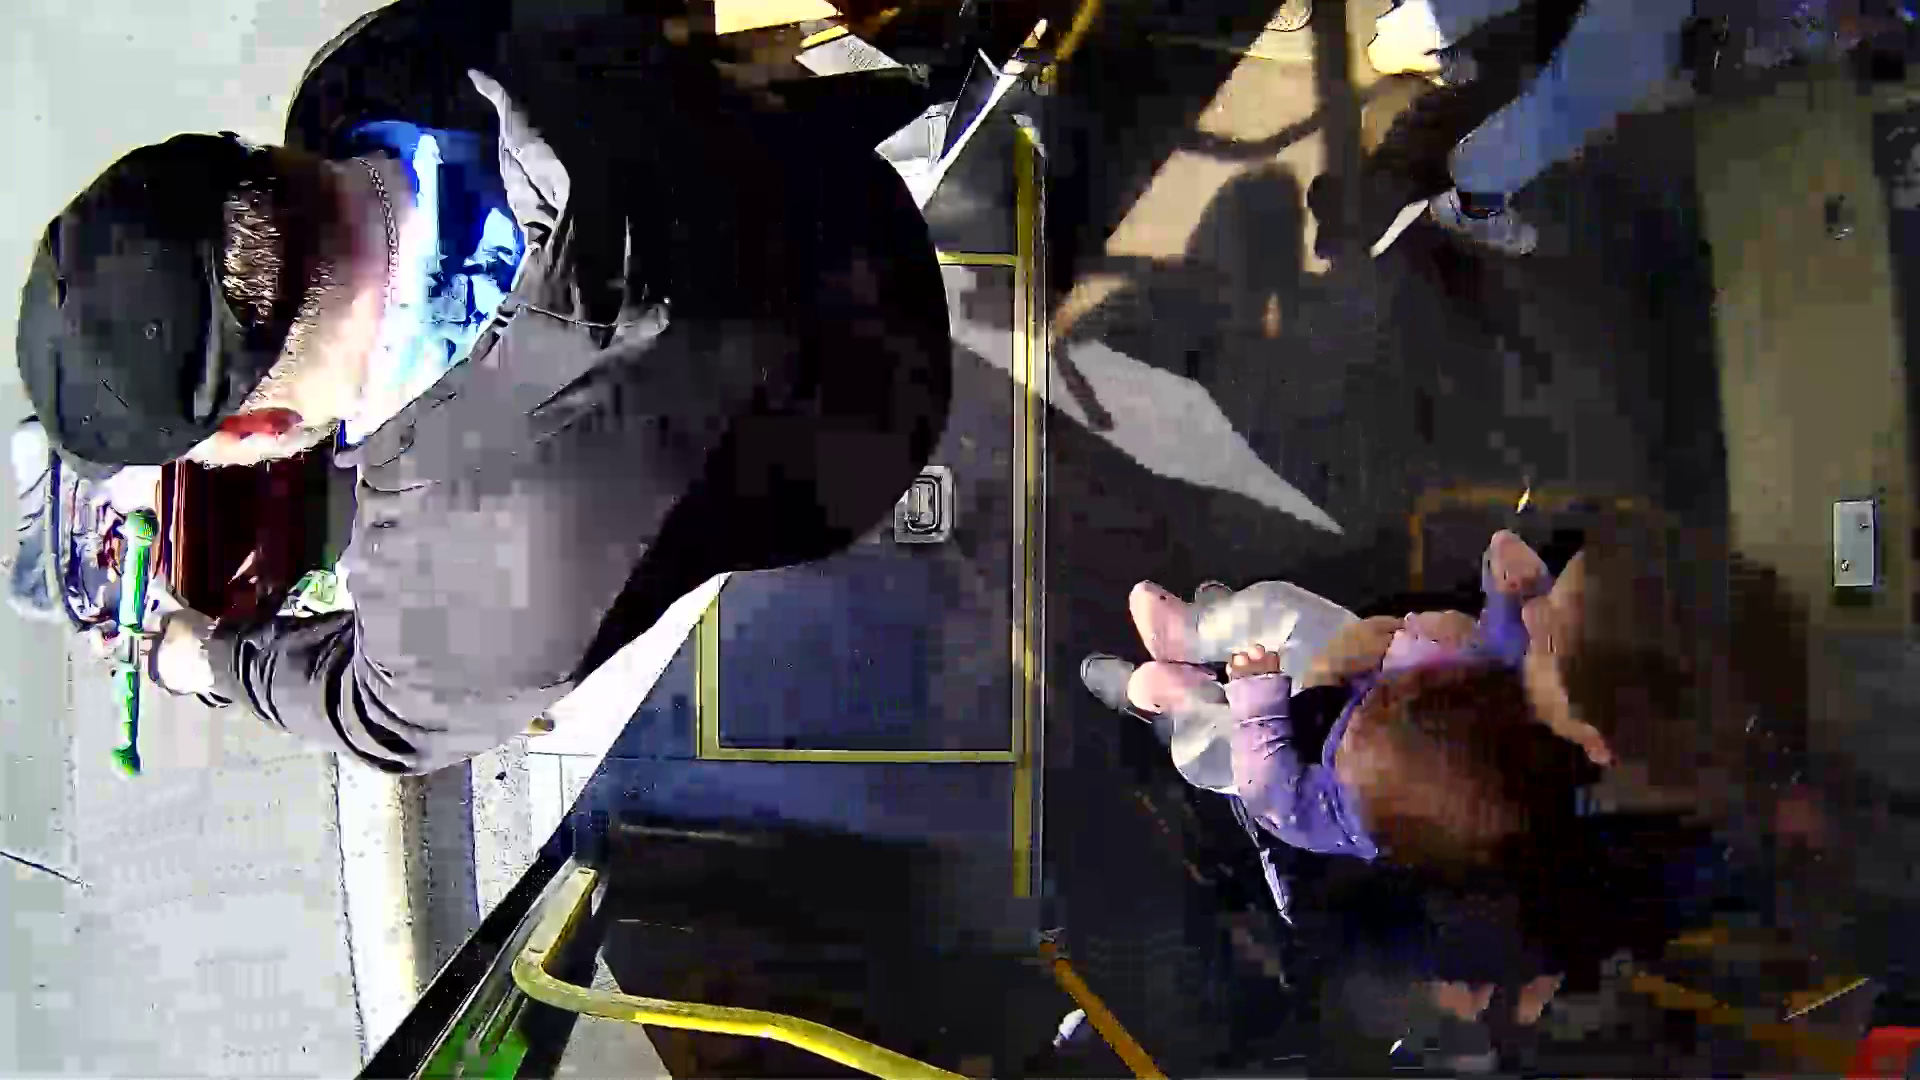person: (33, 13, 965, 711), (1104, 435, 1802, 913)
